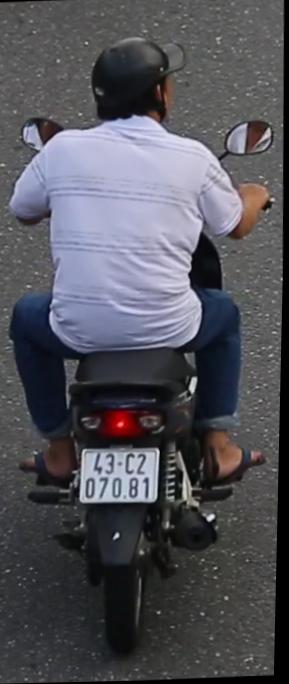LP: (77, 438, 165, 511)
helmet: (84, 31, 178, 140)
